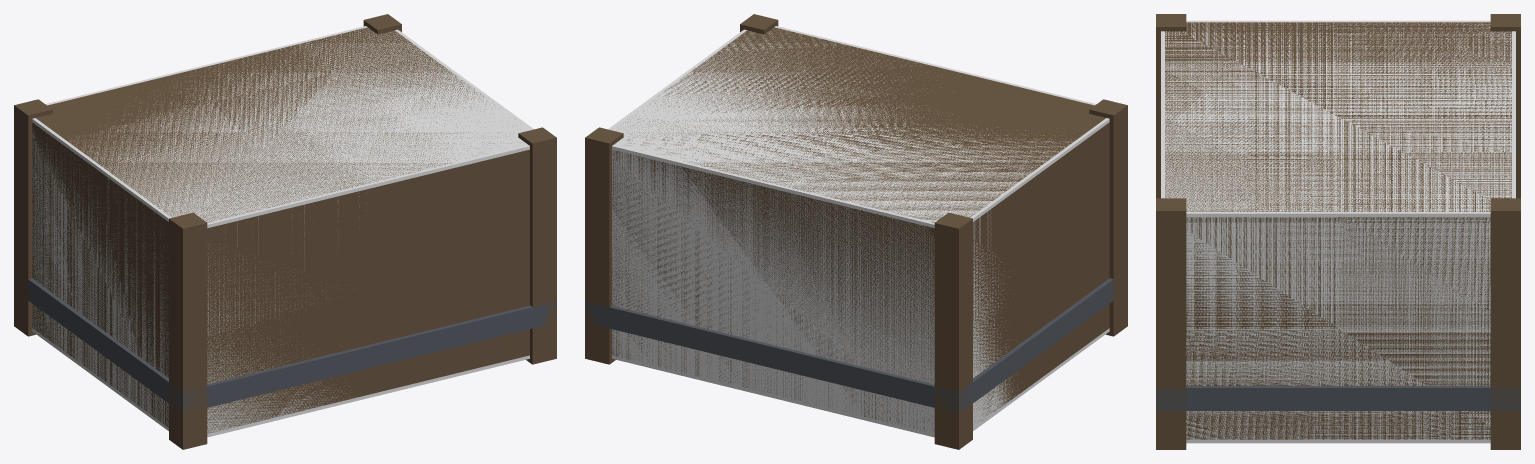
File: crate_step_50.glb
The picture shows the model from 3 angles, left to right: view 1: azimuth 30°, elevation 25°; view 2: azimuth 150°, elevation 25°; view 3: azimuth 270°, elevation 25°; orthographic projection. The views are drawn at different scales.
Parts seen in each view (by area): view 1: crate_mesh, crate_step_50-convcol; view 2: crate_mesh, crate_step_50-convcol; view 3: crate_mesh, crate_step_50-convcol.
Boxes of the visible parts, x1,y1,x2,y2 form: crate_mesh: (14,14,556,449); crate_step_50-convcol: (32,26,533,437); crate_mesh: (585,14,1127,449); crate_step_50-convcol: (608,26,1109,437); crate_mesh: (1156,14,1520,449); crate_step_50-convcol: (1161,20,1515,443).
Size of the model in its own units: 0.92 by 0.52 by 0.72.
